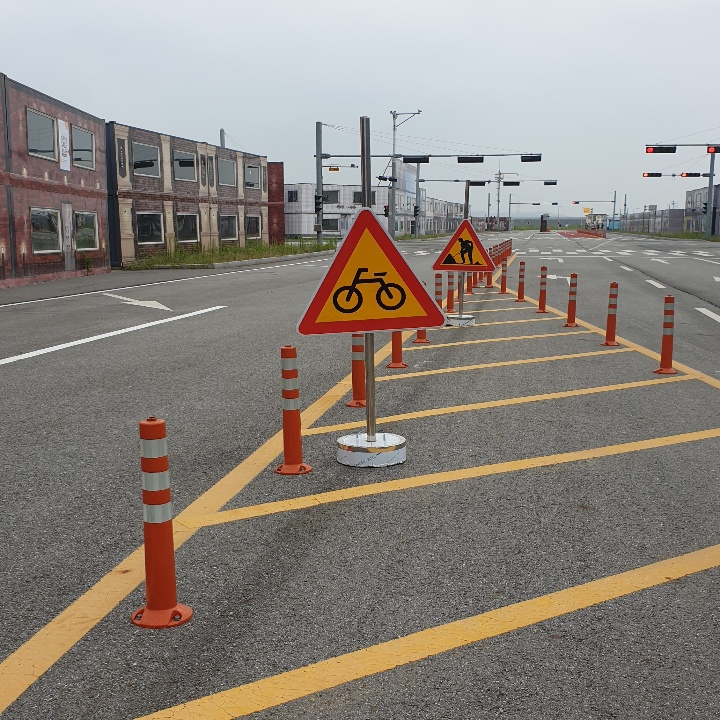bicycle: (297, 206, 447, 336)
const: (441, 230, 486, 264)
